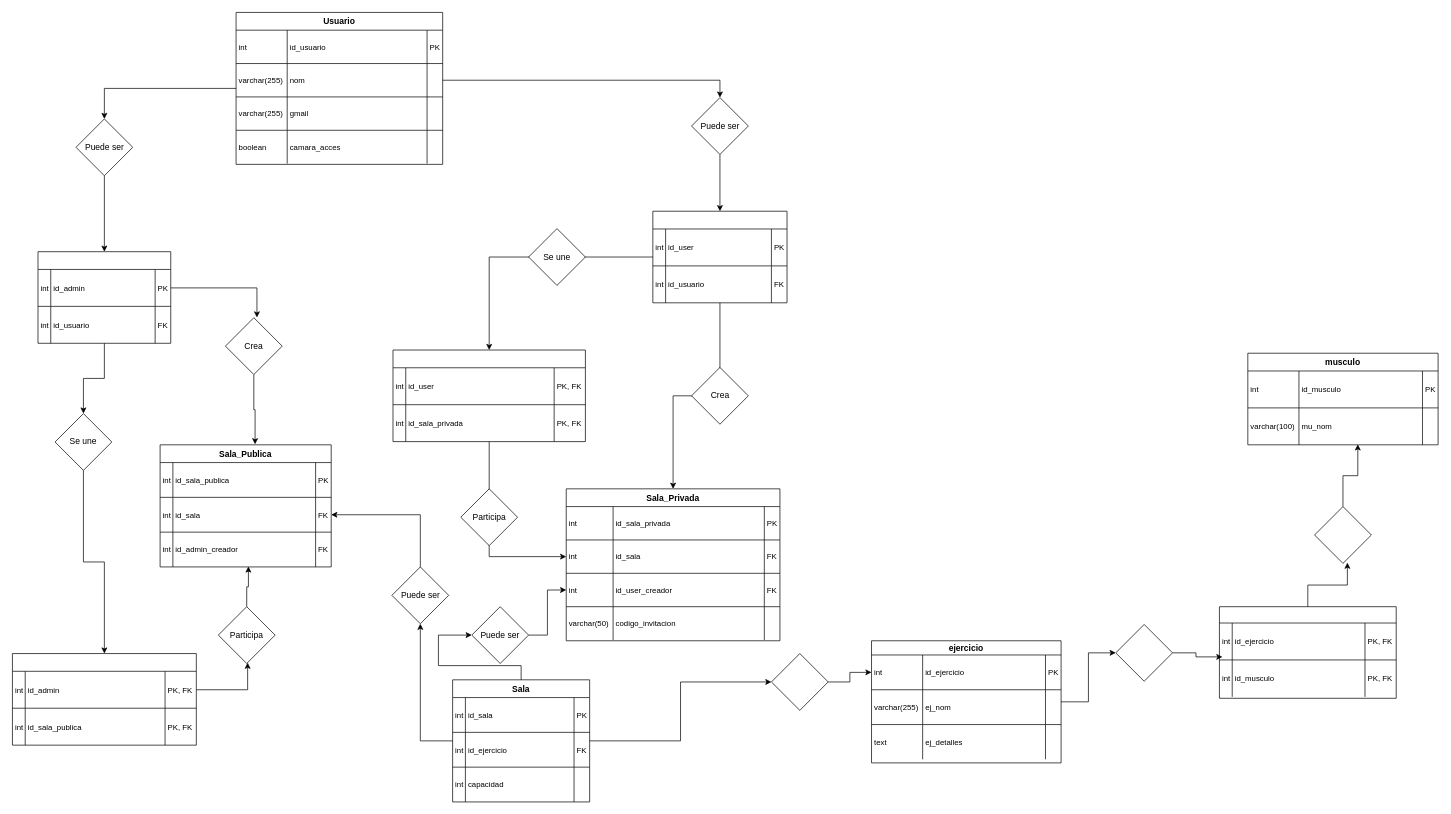
Some shapes in this 1451 by 814 pixel diagram are drawn without their labels. The box of each missing label's shape, as (x1, y1, x2, y2) in pixels:
Admin_se_une_Sala_Publica: (12, 653, 196, 745)
Ejercicio_fortalece_Musculo: (1219, 606, 1396, 698)
Fortalece: (1314, 506, 1371, 563)
Hace: (1115, 624, 1173, 681)
Se basa: (771, 653, 828, 710)
Usuario_Admin: (37, 251, 171, 343)
Usuario_No_Admin: (652, 211, 787, 303)
Usuario_se_une_Sala_Privada: (392, 349, 585, 442)
